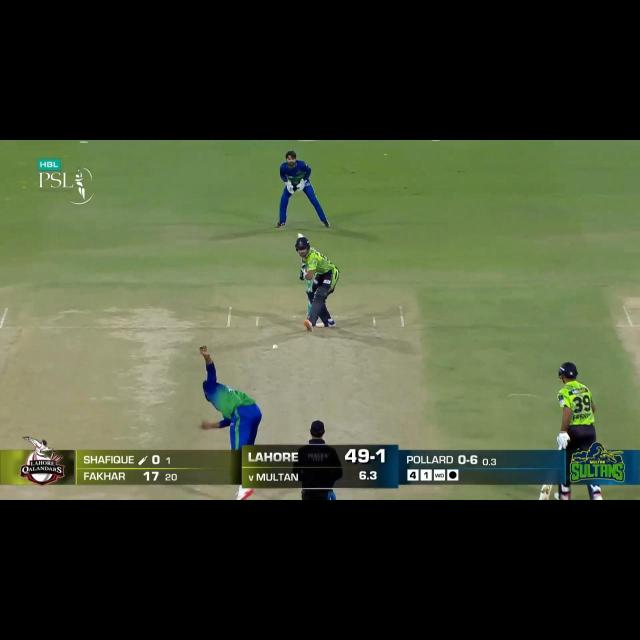bat: (539, 483, 555, 499), (300, 254, 307, 264)
toe: (298, 232, 306, 240)
